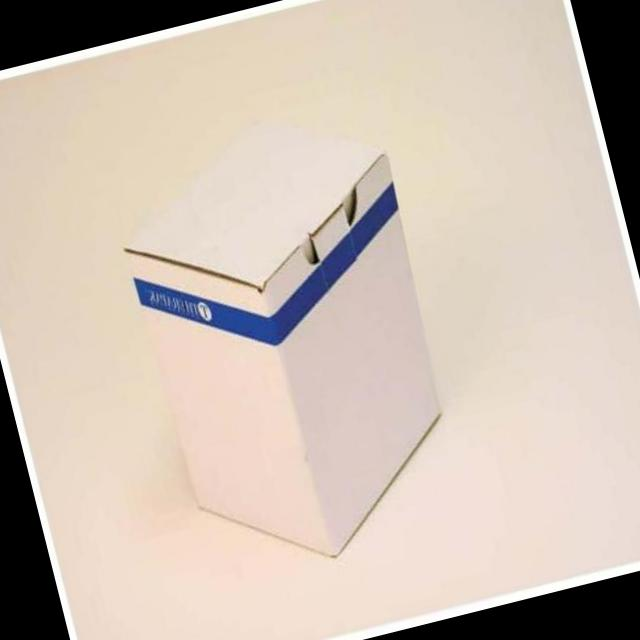box: (100, 88, 478, 591)
